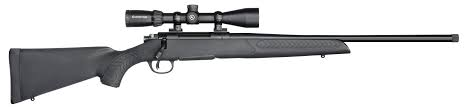gun: (8, 4, 460, 105)
